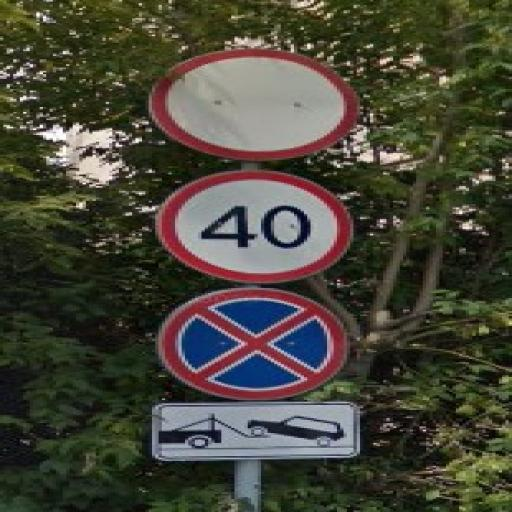traffic_sign: (150, 47, 364, 164), (153, 167, 354, 286), (160, 288, 351, 403)
